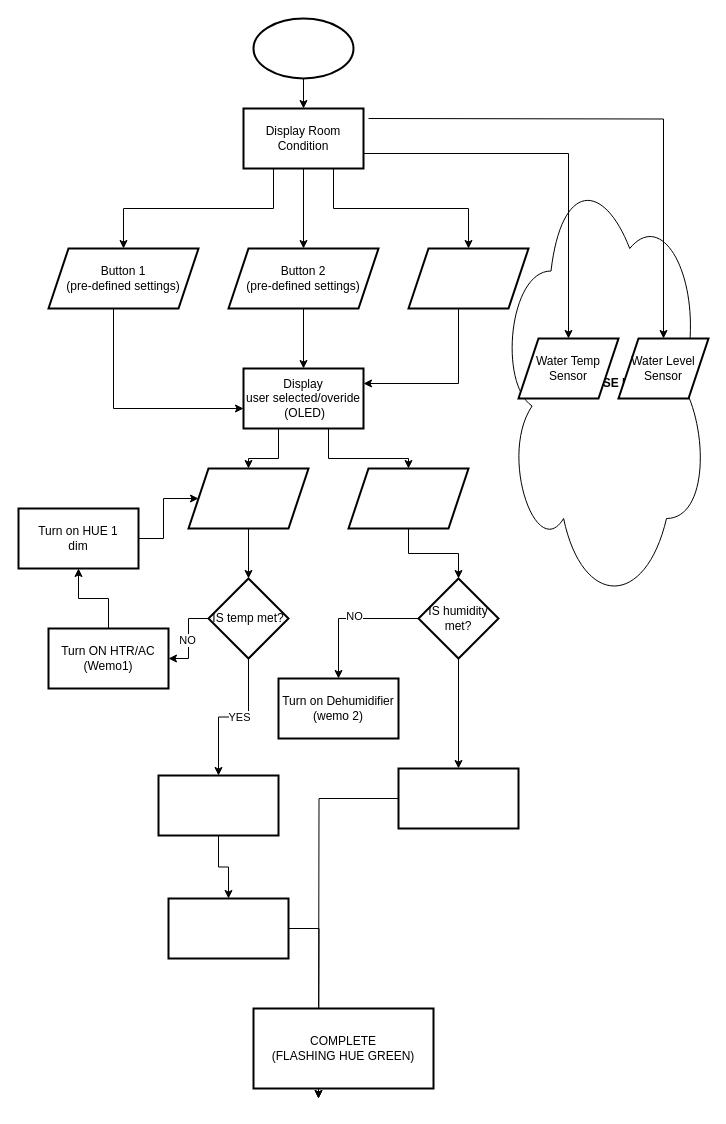
Some shapes in this 726 by 1124 pixel diagram are drawn without their labels. The shapes that lost their labels are listed below. From the top down, each one's centre as x and y in pixels, then its label:
(x=303, y=48): RESTROOM CONTROLLER
(x=468, y=278): Button 3 (temp manual overide)
(x=248, y=498): Read Temp
(x=408, y=498): Read Humidity
(x=218, y=805): Turn off HTR/AC
(x=458, y=798): Turn off dehumidifier
(x=228, y=928): Change HUE1 full brightness color red/blue
